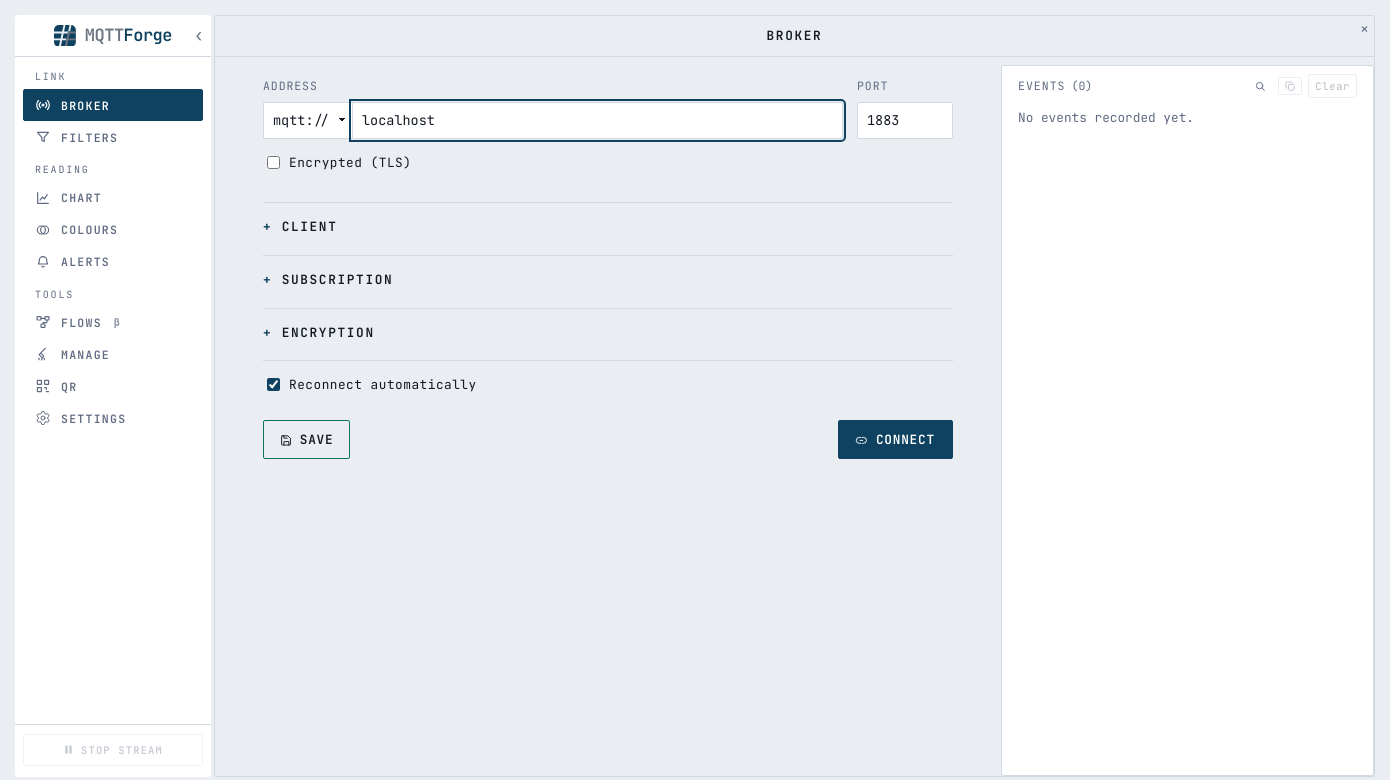
Scenario: the alerts console › opens from the rail, and lists what the server holds
Click the button "Alerts" at (113, 262), box [23, 246, 203, 278]
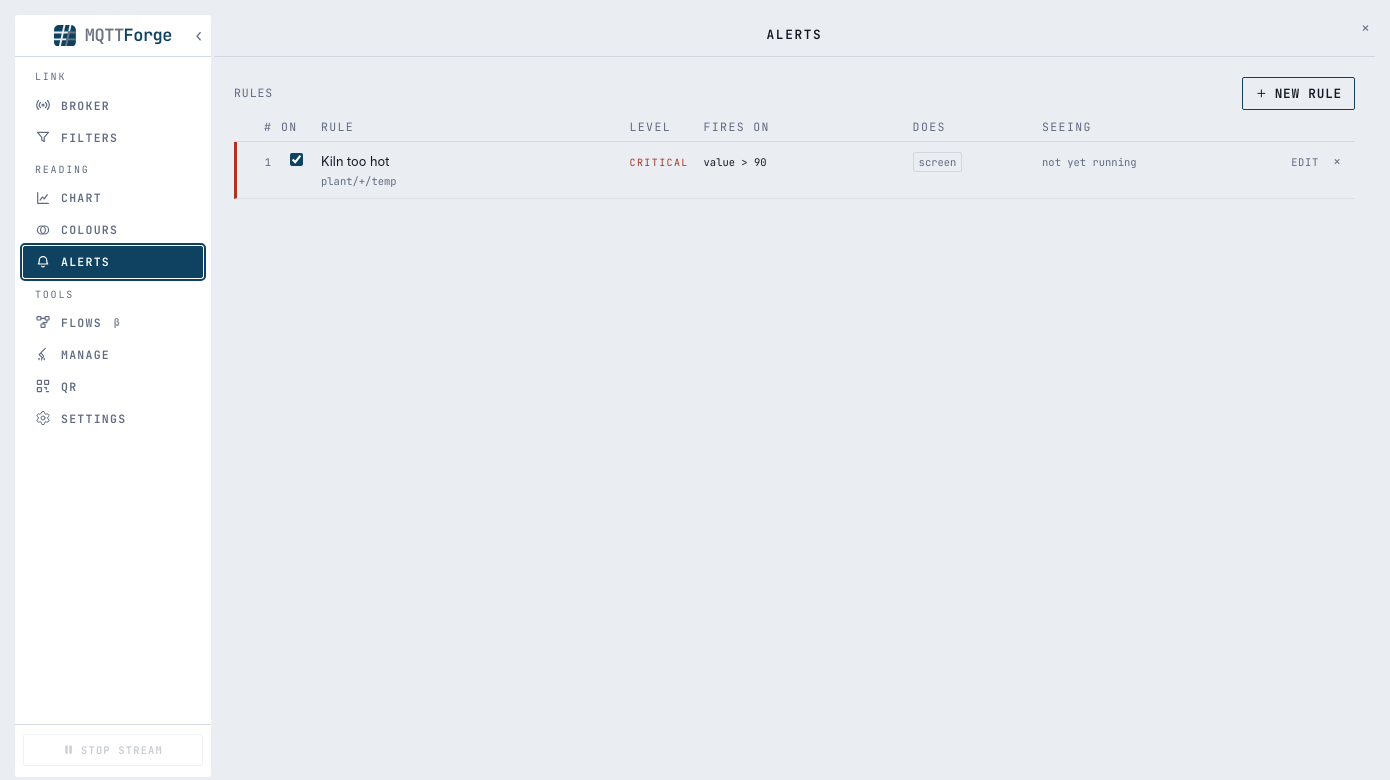
Now the text "Kiln too hot" is shown, box [321, 154, 389, 169]
Now the text "plant/+/temp" is shown, box [321, 174, 397, 188]
